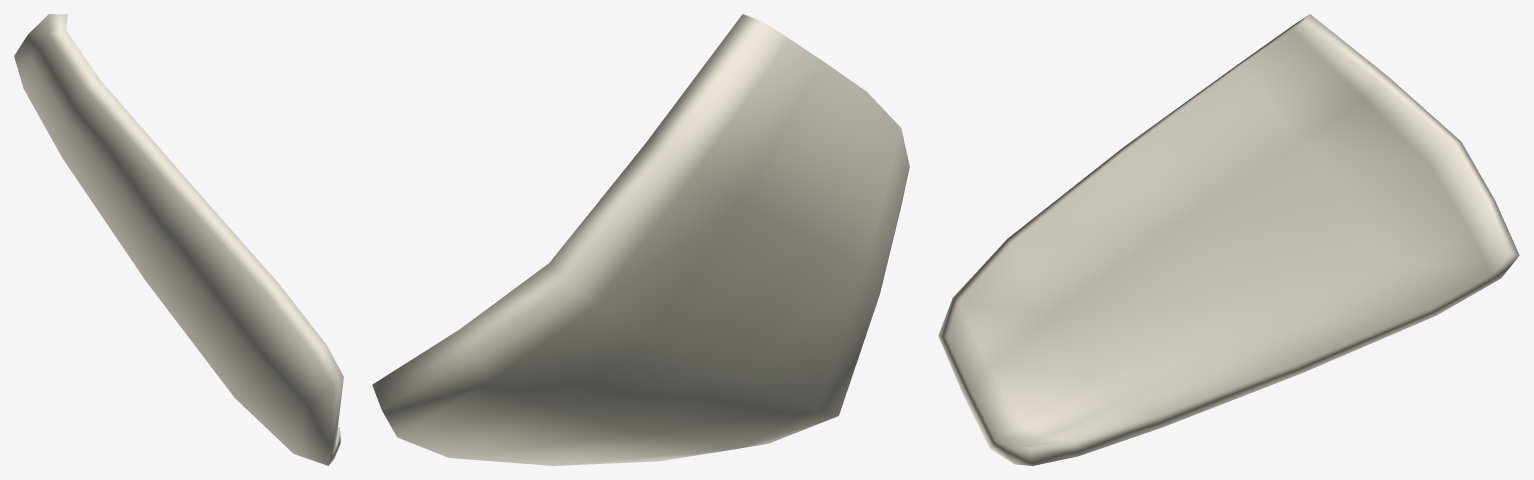
3 views of the same model, side by side, from view 1: azimuth 30°, elevation 25°; view 2: azimuth 150°, elevation 25°; view 3: azimuth 270°, elevation 25° (orthographic). The views are drawn at different scales.
Parts seen in each view (by area): view 1: ZA_76a56b7409ae34d7; view 2: ZA_76a56b7409ae34d7; view 3: ZA_76a56b7409ae34d7.
Part boxes in pixels (bbox=[...]): ZA_76a56b7409ae34d7: bbox=[14, 14, 343, 465]; ZA_76a56b7409ae34d7: bbox=[372, 14, 909, 465]; ZA_76a56b7409ae34d7: bbox=[938, 14, 1519, 465].
Bounding box in the file's own units: 0.0049 × 0.0107 × 0.0148.
